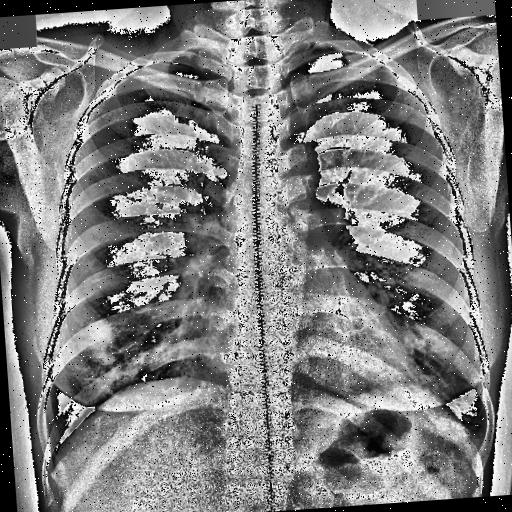13- Pulmonary fibrosis: (88, 346, 116, 366), (460, 414, 482, 428)
7- Lung Opacity: (69, 313, 147, 390), (82, 322, 118, 370), (88, 346, 116, 366)
8- Nodule-Mass: (86, 320, 114, 346)
9- Other lesion: (86, 320, 114, 346)
